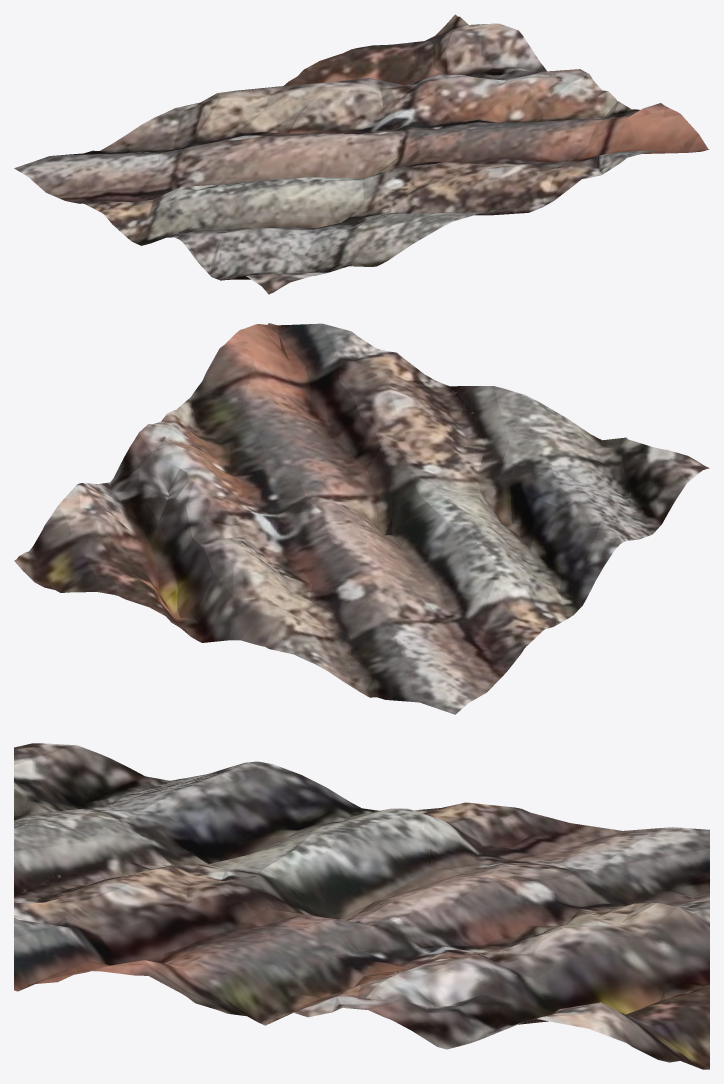
3 renders of one model, top to bottom at view 1: azimuth 30°, elevation 25°; view 2: azimuth 150°, elevation 25°; view 3: azimuth 270°, elevation 25°, orthographic. The views are drawn at different scales.
Bounding box in the file's own units: 0.8374 × 0.2094 × 0.8374.
Materials: 3 (3 with a texture image).
